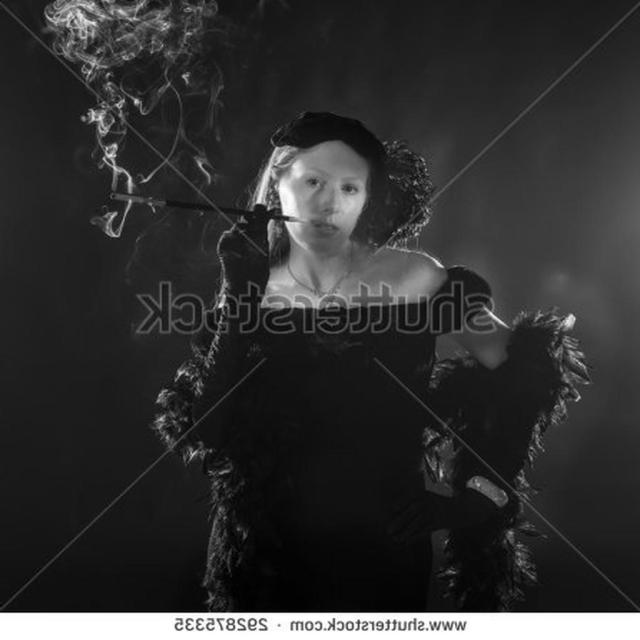smoking: (47, 112, 412, 279)
